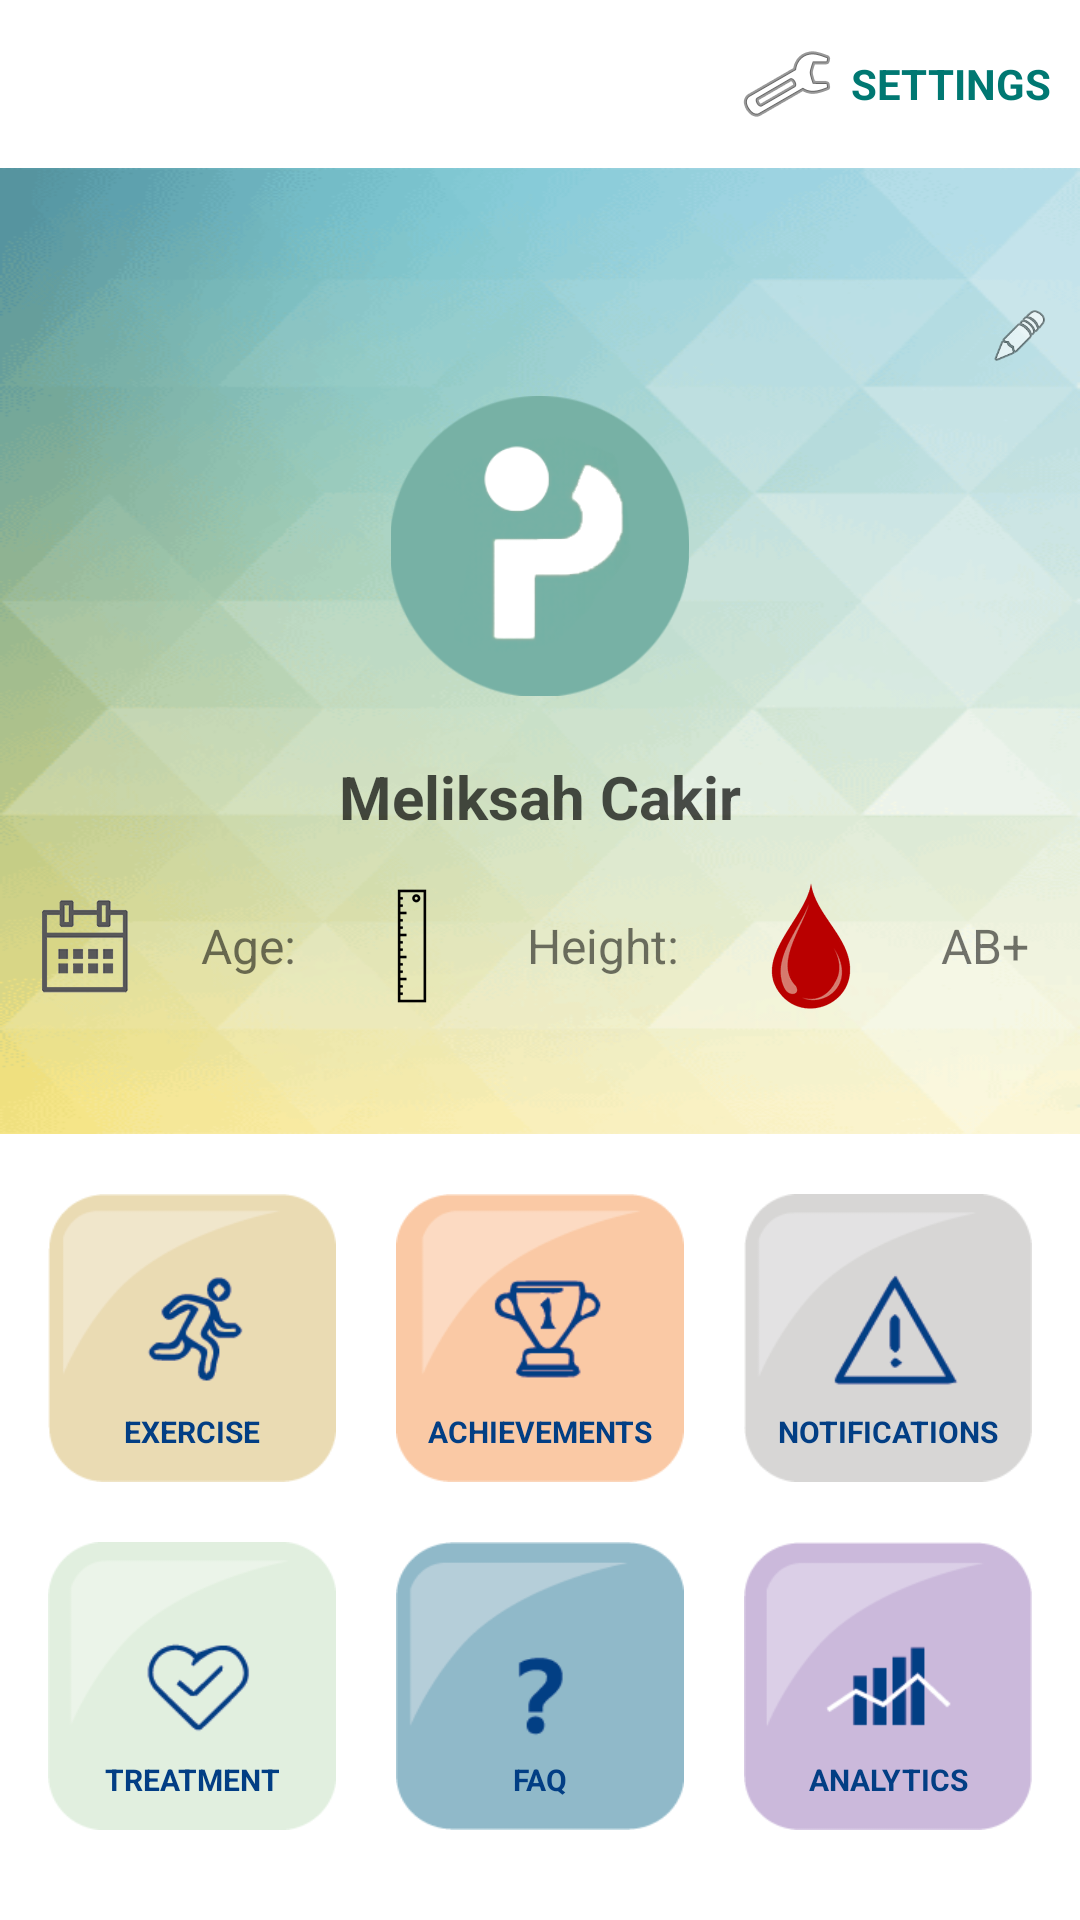

Screen size 1080x1920. Icon name, then its box in pixels as (x1, y1, x2, y2):
calendar: (15, 896, 155, 996)
drop: (771, 884, 851, 1009)
edit: (994, 310, 1045, 361)
manage: (744, 51, 830, 117)
